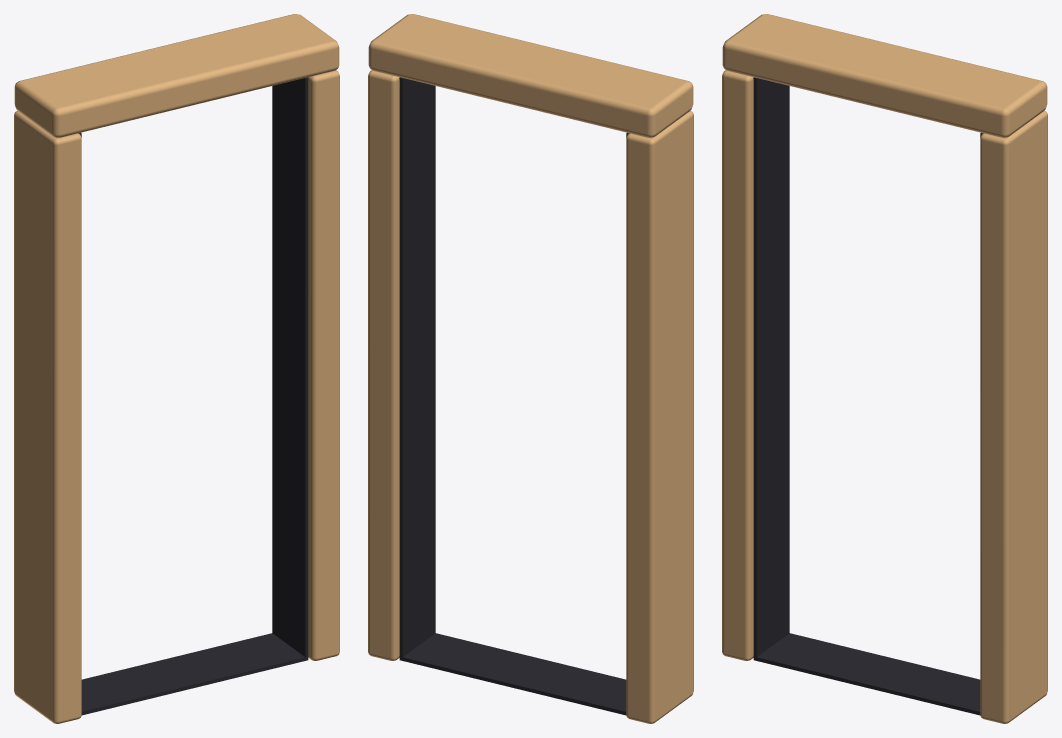
Rendered from wand_halb_tuer.glb.
3 renders of one model, left to right at view 1: azimuth 30°, elevation 25°; view 2: azimuth 150°, elevation 25°; view 3: azimuth 330°, elevation 25°, orthographic.
Parts seen in each view (by area): view 1: wand_halb_tuer; view 2: wand_halb_tuer; view 3: wand_halb_tuer.
Boxes of the visible parts, x1=… form: wand_halb_tuer: x1=14, y1=14, x2=339, y2=723; wand_halb_tuer: x1=368, y1=14, x2=693, y2=723; wand_halb_tuer: x1=722, y1=14, x2=1047, y2=723.
Size of the model in its own units: 1 by 2.05 by 0.26.
